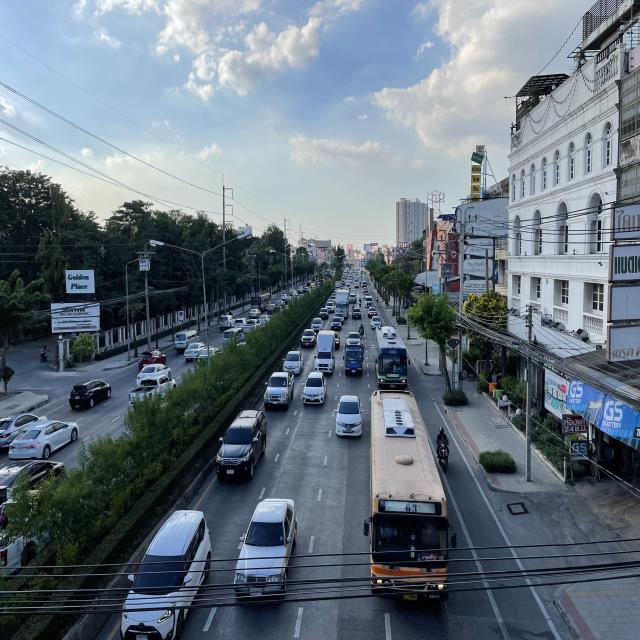bike: (434, 422, 452, 476), (358, 322, 364, 339)
bus: (365, 388, 454, 608), (374, 325, 410, 388)
car: (119, 508, 212, 640), (232, 494, 299, 602), (215, 409, 268, 482), (334, 393, 364, 438), (263, 372, 295, 410), (302, 372, 327, 406), (282, 349, 304, 376), (300, 328, 318, 349), (345, 332, 362, 347), (310, 316, 324, 332), (330, 316, 342, 331), (370, 316, 382, 330), (352, 307, 362, 320), (319, 307, 329, 319)
truck: (314, 329, 336, 376), (345, 345, 363, 378), (334, 289, 350, 320)
